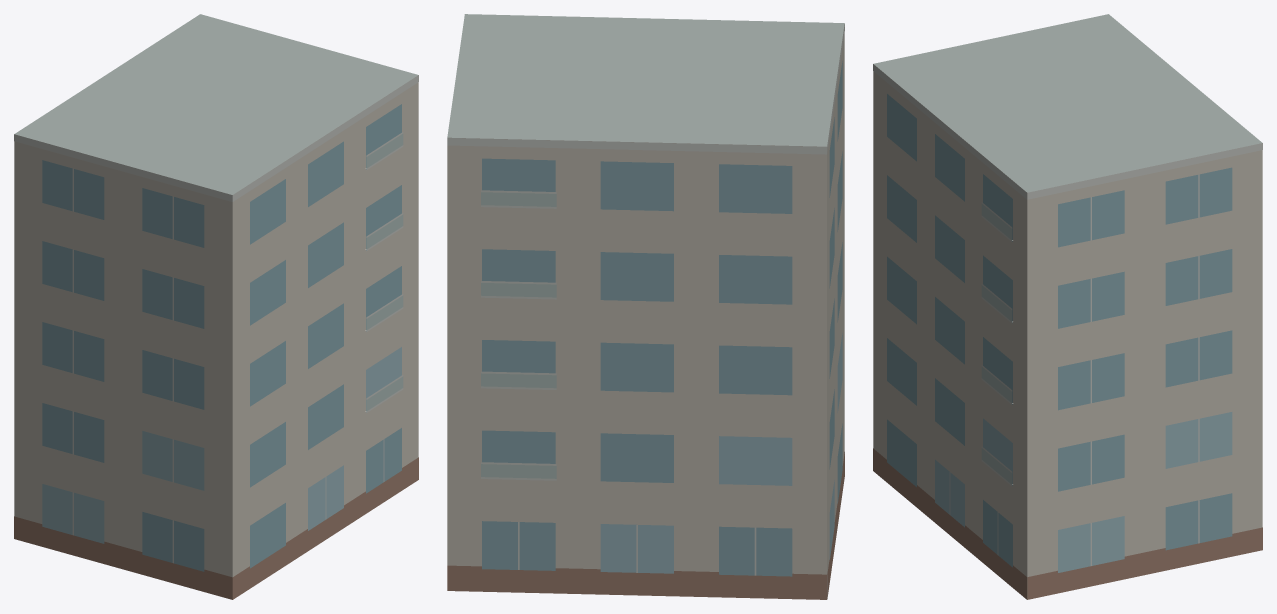
Rendered from survey-upis-32837165.glb.
3 renders of one model, left to right at view 1: azimuth 30°, elevation 25°; view 2: azimuth 150°, elevation 25°; view 3: azimuth 270°, elevation 25°, orthographic. The views are drawn at different scales.
Parts seen in each view (by area): view 1: survey-upis-32837165.tmp; view 2: survey-upis-32837165.tmp; view 3: survey-upis-32837165.tmp.
Boxes of the visible parts, x1=… form: survey-upis-32837165.tmp: x1=14, y1=14, x2=418, y2=599; survey-upis-32837165.tmp: x1=447, y1=14, x2=844, y2=599; survey-upis-32837165.tmp: x1=873, y1=14, x2=1262, y2=599.
Size of the model in its own units: 13.28 by 14.1 by 12.24.
